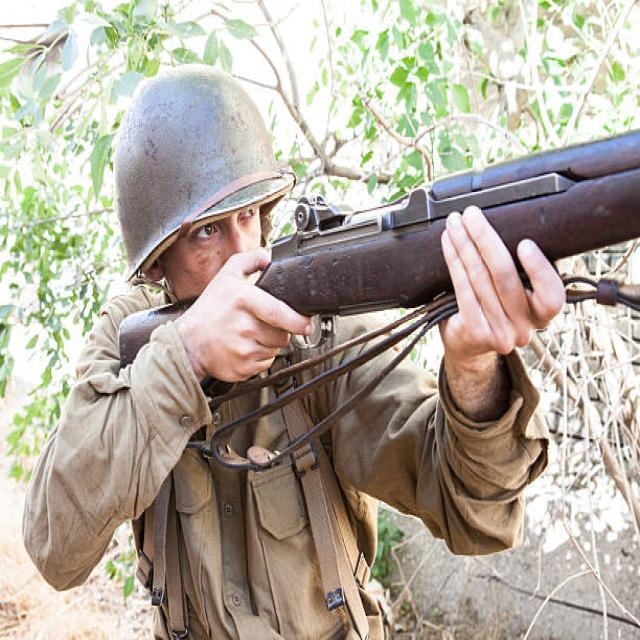soldier: (4, 2, 640, 640)
